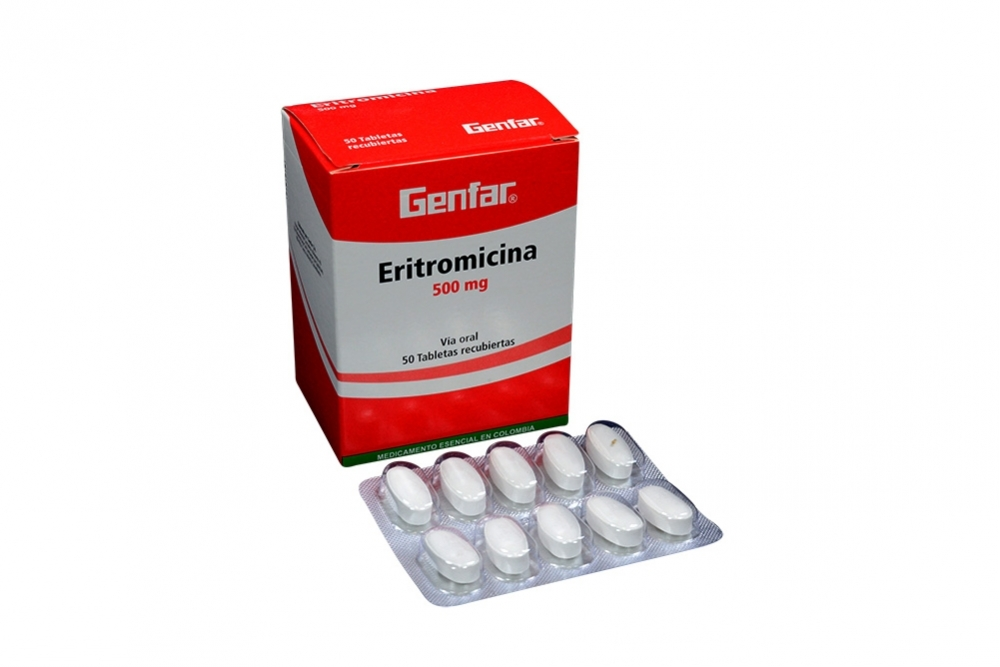Genfar: (338, 158, 568, 466)
